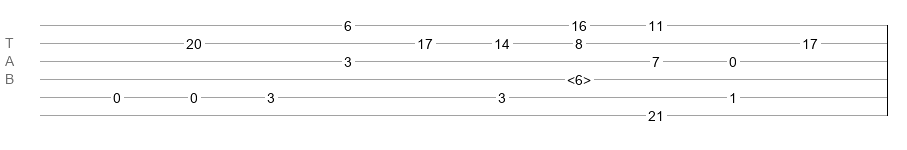0: (113, 90, 121, 100), (190, 90, 198, 100), (729, 54, 737, 64)
1: (729, 90, 737, 100)
11: (648, 18, 664, 28)
14: (494, 36, 510, 46)
16: (571, 18, 587, 28)
17: (417, 36, 433, 46), (802, 36, 818, 46)
20: (186, 36, 202, 46)
21: (648, 108, 664, 118)
3: (267, 90, 275, 100), (344, 54, 352, 64), (498, 90, 506, 100)
6: (344, 18, 352, 28)
7: (652, 54, 660, 64)
8: (575, 36, 583, 46)
harmonic: (567, 72, 591, 82)
